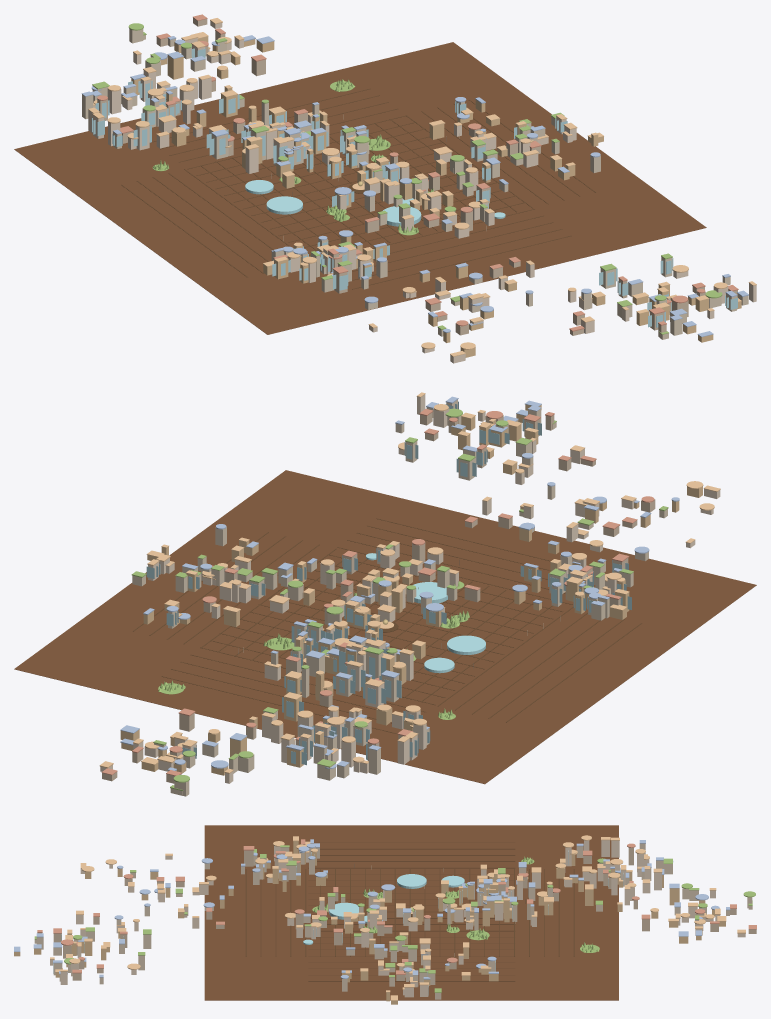
Rendered from wuhan_3d_city.glb.
3 views of the same model, one above another, from view 1: azimuth 30°, elevation 25°; view 2: azimuth 150°, elevation 25°; view 3: azimuth 270°, elevation 25° (orthographic). The views are drawn at different scales.
Parts seen in each view (by area): view 1: Ground; view 2: Ground; view 3: Ground, RH_-182, RH_-128, Water_-86.09196635360502, Water_0.
Boxes of the visible parts, x1=… form: Ground: x1=14, y1=42, x2=706, y2=334; Ground: x1=14, y1=470, x2=756, y2=784; Ground: x1=204, y1=825, x2=618, y2=1000; RH_-182: x1=320, y1=848, x2=514, y2=849; RH_-128: x1=308, y1=867, x2=514, y2=868; Water_-86.09196635360502: x1=397, y1=874, x2=426, y2=888; Water_0: x1=329, y1=902, x2=358, y2=919.
Bounding box in the file's own units: 513 × 37.22 × 897.
